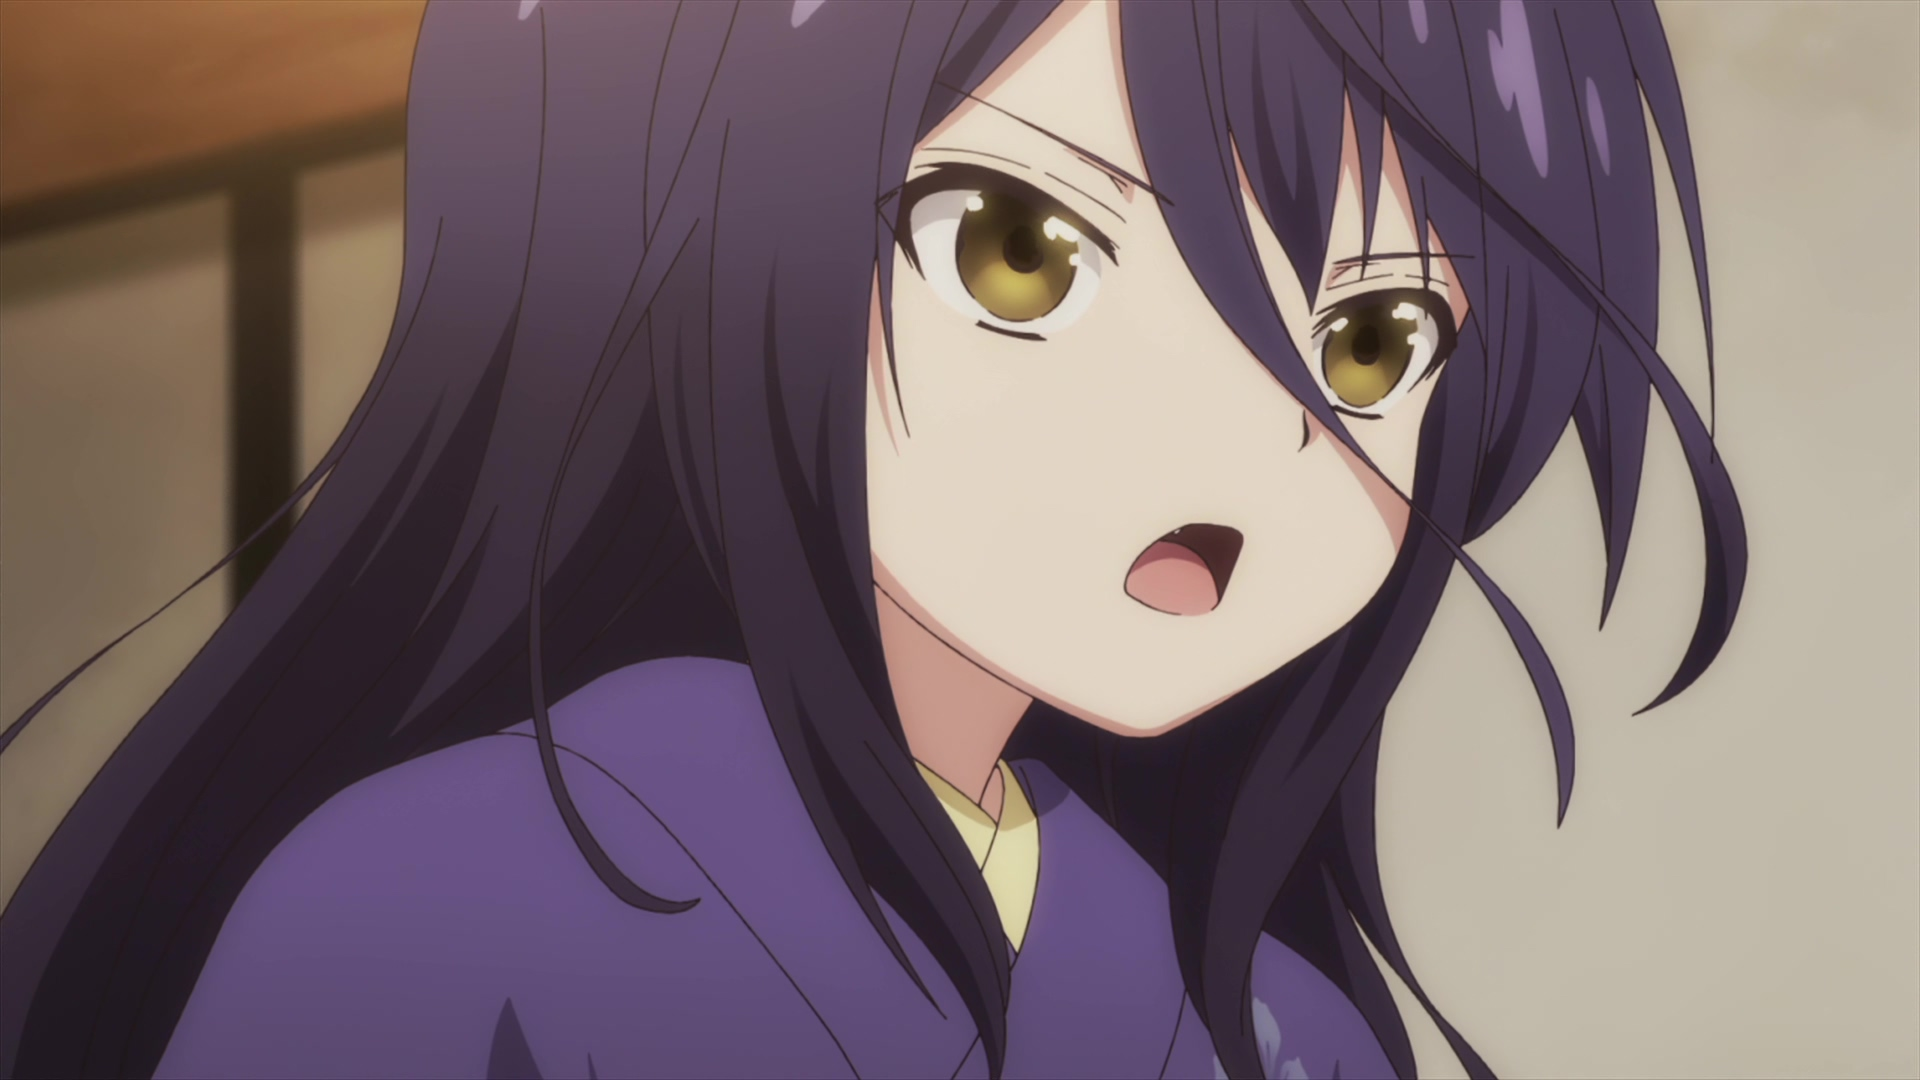皋: (1, 1, 1751, 1080)
